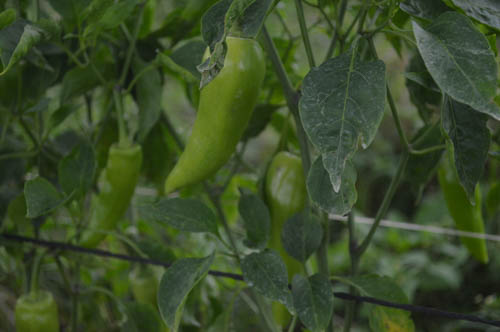ChiliPepper: (167, 39, 263, 193), (261, 153, 307, 326), (78, 146, 138, 250), (438, 147, 489, 261), (14, 295, 59, 331)
